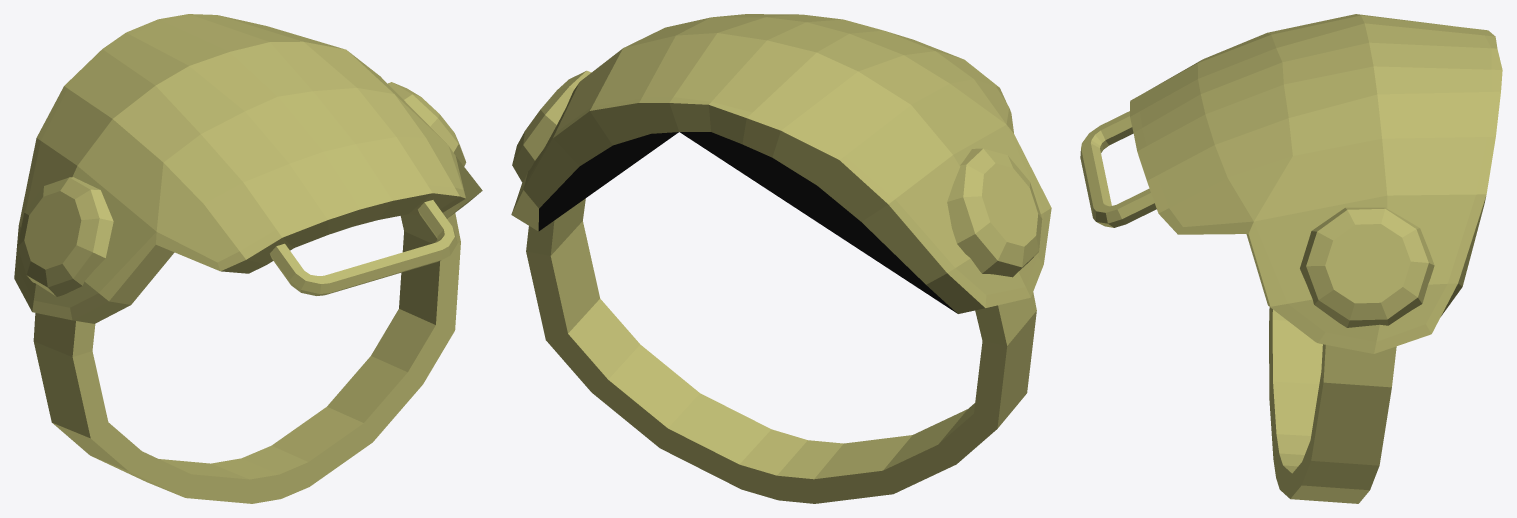
Rendered from HelmetPickUp.fbx.
3 views of the same model, side by side, from view 1: azimuth 30°, elevation 25°; view 2: azimuth 150°, elevation 25°; view 3: azimuth 270°, elevation 25° (orthographic). The views are drawn at different scales.
Parts seen in each view (by area): view 1: Helmet1; view 2: Helmet1; view 3: Helmet1.
Boxes of the visible parts, x1,y1,x2,y2 form: Helmet1: [14, 14, 482, 503]; Helmet1: [511, 14, 1051, 503]; Helmet1: [1080, 14, 1502, 503].
Bounding box in the file's own units: 143 × 132 × 115.
